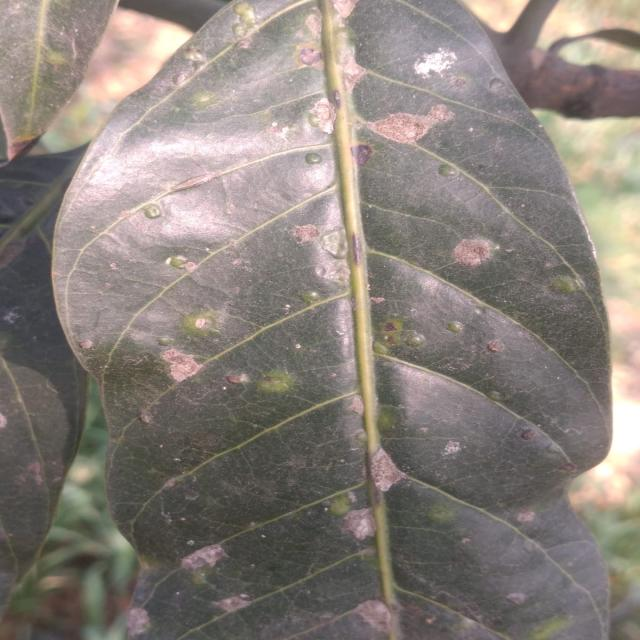Powdery Mildew: (455, 235, 506, 274), (412, 43, 464, 81), (162, 347, 213, 382)
gall midge: (160, 252, 204, 271), (405, 329, 434, 352), (141, 203, 170, 221), (446, 316, 469, 337), (302, 289, 325, 305), (487, 386, 506, 404)
